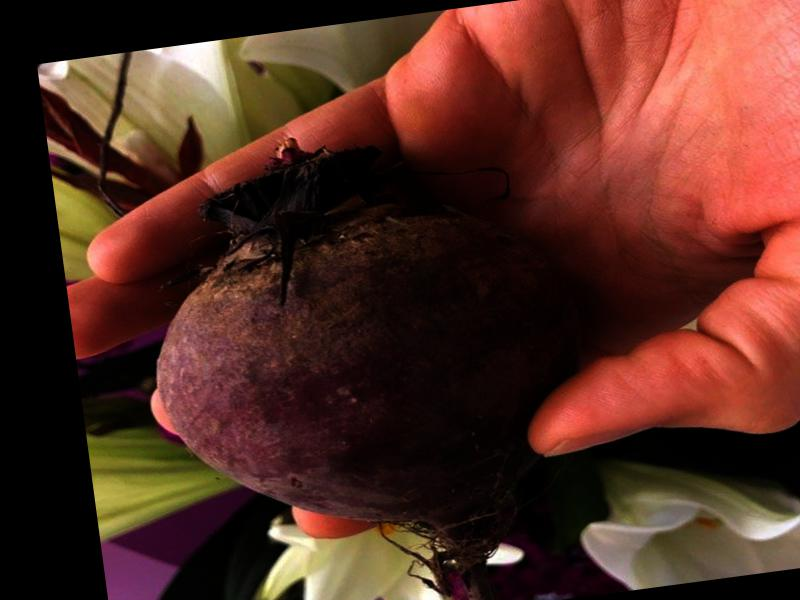Beet: (125, 107, 614, 600)
